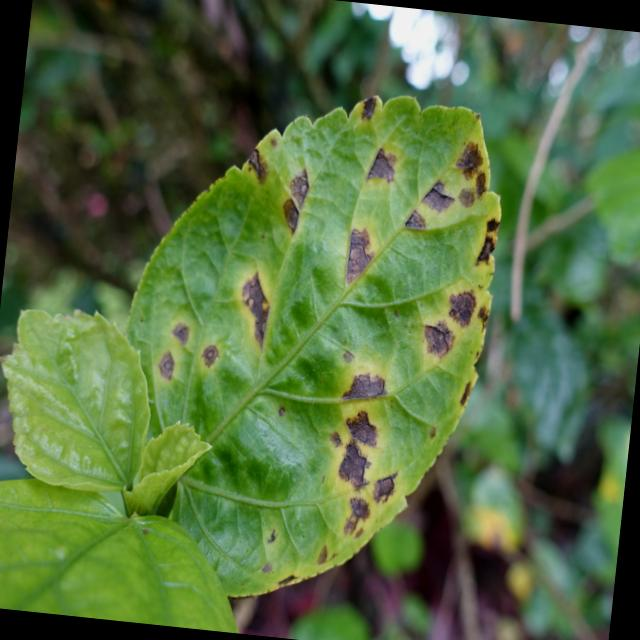leaf_spot: (128, 96, 500, 594)
